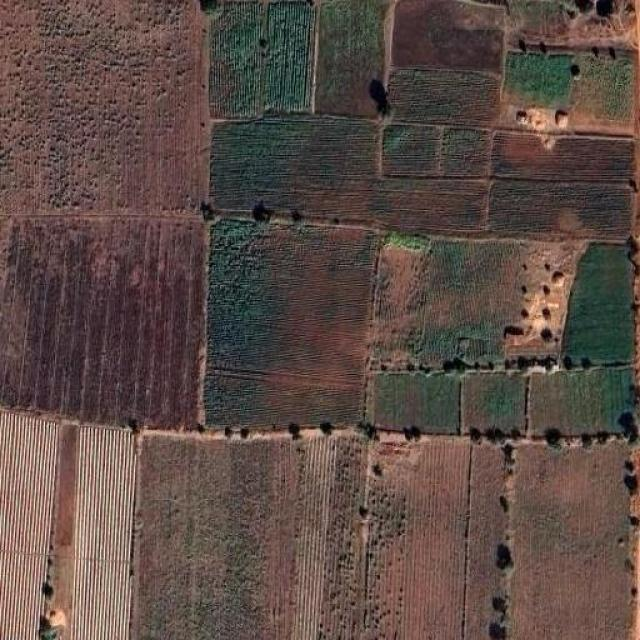land-Sx1C: (1, 0, 208, 212), (1, 215, 206, 427), (206, 219, 378, 428), (131, 435, 298, 639), (209, 220, 376, 383), (510, 444, 632, 639), (365, 432, 470, 639), (371, 234, 524, 369), (210, 116, 378, 221), (291, 436, 368, 639), (0, 410, 58, 639), (72, 426, 134, 639), (291, 438, 335, 640), (562, 244, 634, 365), (315, 0, 389, 116), (464, 445, 508, 639), (489, 180, 632, 238), (393, 0, 506, 72), (42, 421, 79, 640), (529, 366, 635, 436), (492, 130, 634, 182), (389, 68, 499, 126), (210, 2, 262, 118), (508, 0, 634, 46), (265, 1, 314, 112), (381, 180, 486, 231), (370, 375, 460, 433), (461, 372, 528, 433), (572, 54, 631, 122), (505, 52, 572, 106), (382, 125, 440, 176), (441, 128, 490, 176)
